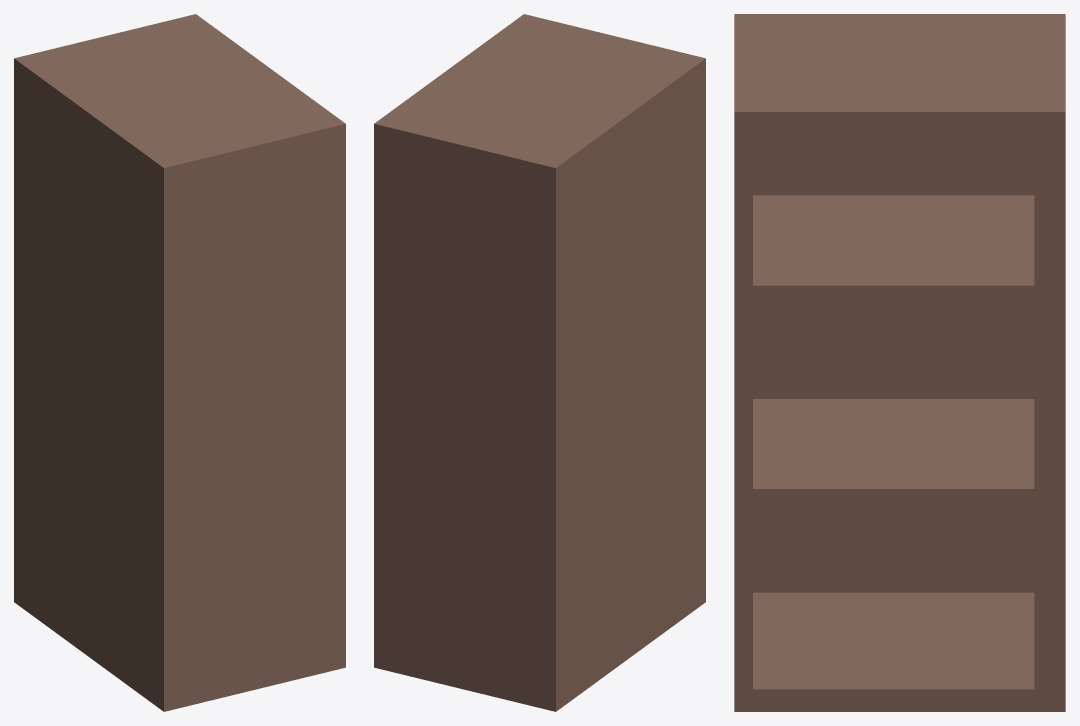
Rendered from shelf001-003.fbx.
3 views of the same model, side by side, from view 1: azimuth 30°, elevation 25°; view 2: azimuth 150°, elevation 25°; view 3: azimuth 270°, elevation 25° (orthographic). The views are drawn at different scales.
Parts seen in each view (by area): view 1: body; view 2: body; view 3: body.
Part boxes in pixels (bbox=[...]): body: bbox=[14, 14, 345, 711]; body: bbox=[374, 14, 705, 711]; body: bbox=[734, 14, 1065, 711].
Size of the model in its own units: 140 by 400 by 200.
